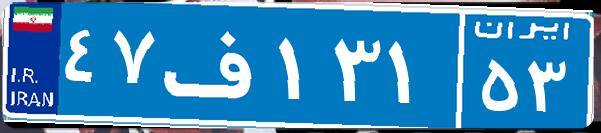1: (385, 28, 445, 110), (273, 28, 330, 110)
3: (330, 28, 385, 110), (525, 38, 570, 115)
4: (57, 26, 110, 107)
5: (475, 38, 525, 113)
7: (110, 28, 158, 105)
ف: (158, 15, 273, 115)
